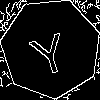Y: (26, 23, 72, 78)
